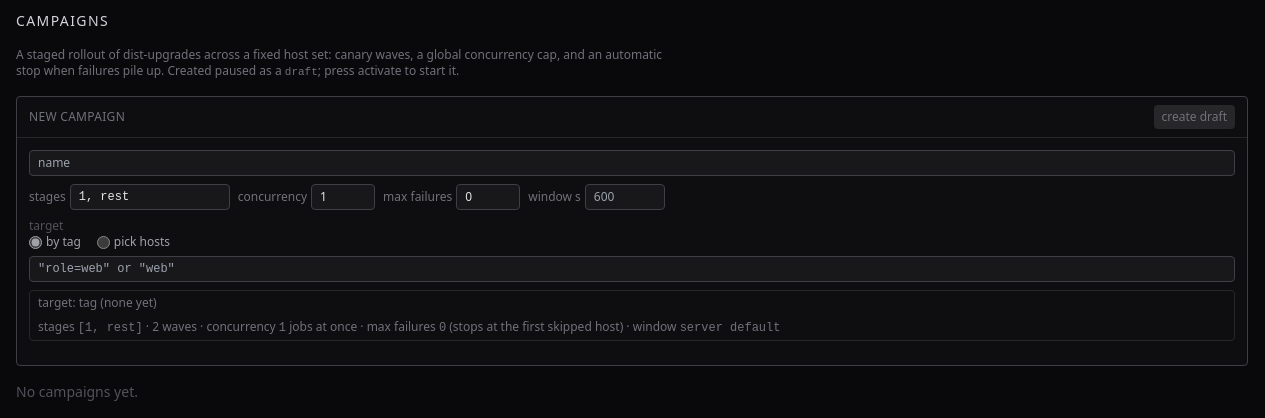
Test: CampaignsView › recaps the exact tag criterion with no invented host count
Check: the text "No campaigns yet." is shown, box x1=16 y1=382 x2=138 y2=401
Type "march rollout" into the field with placeholder "name".
click(632, 163); type("march rollout")  # box x1=29 y1=150 x2=1235 y2=176
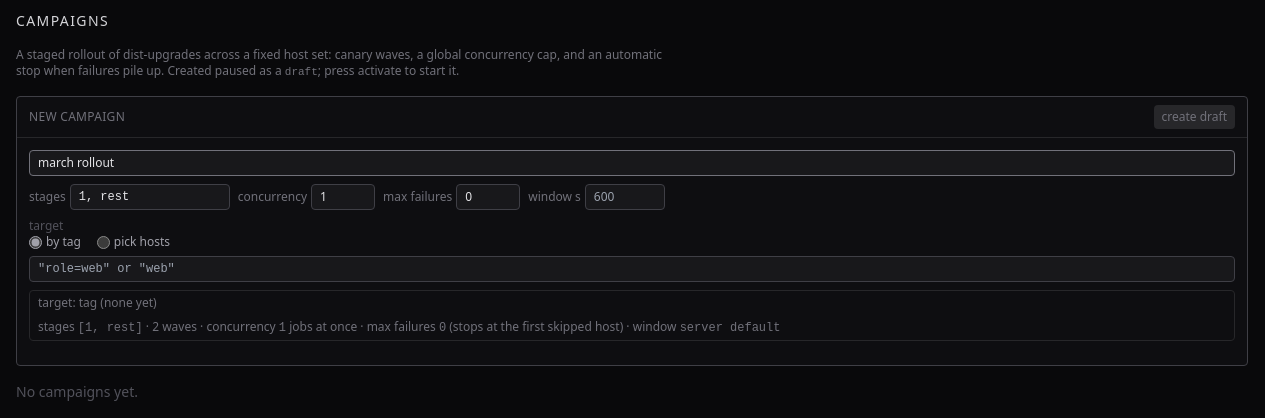
Type "env=prod" into the field named "Tag filter".
click(632, 269); type("env=prod")  # box x1=29 y1=256 x2=1235 y2=282
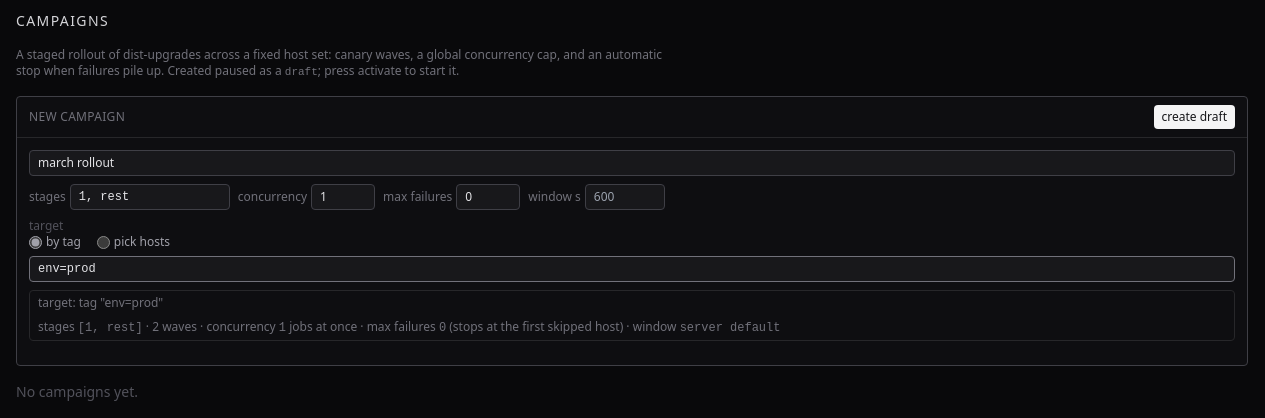
Check: the text "target: tag \"env=prod\"" is shown, box x1=38 y1=294 x2=163 y2=311
